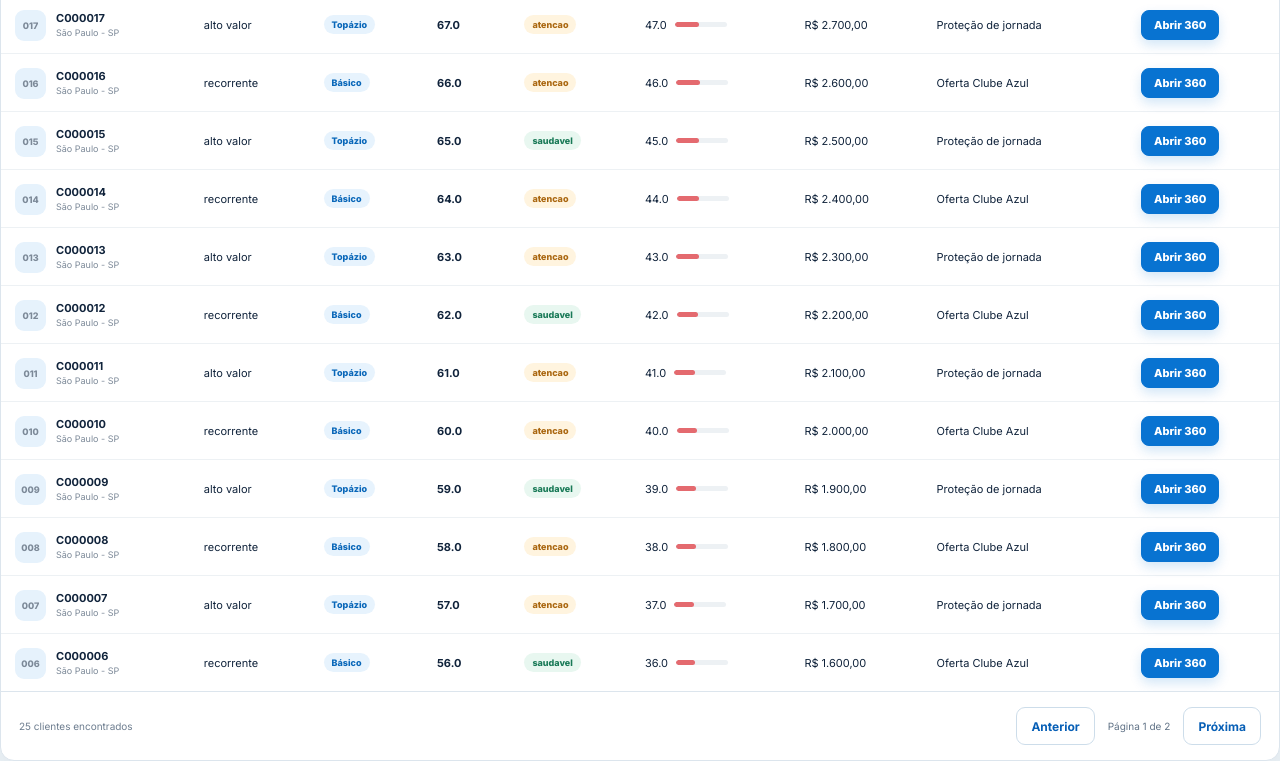
Test: explorador de clientes › pagina a carteira e mantém o total junto aos controles
(page scrolled)
Expected: the text "25 clientes encontrados" is shown, x1=19 y1=720 x2=133 y2=732
Expected: the text "Página 1 de 2" is shown, x1=1108 y1=720 x2=1170 y2=732
Step 1. Click the button "Próxima" → (1222, 726), box x1=1183 y1=707 x2=1261 y2=745
(page scrolled)
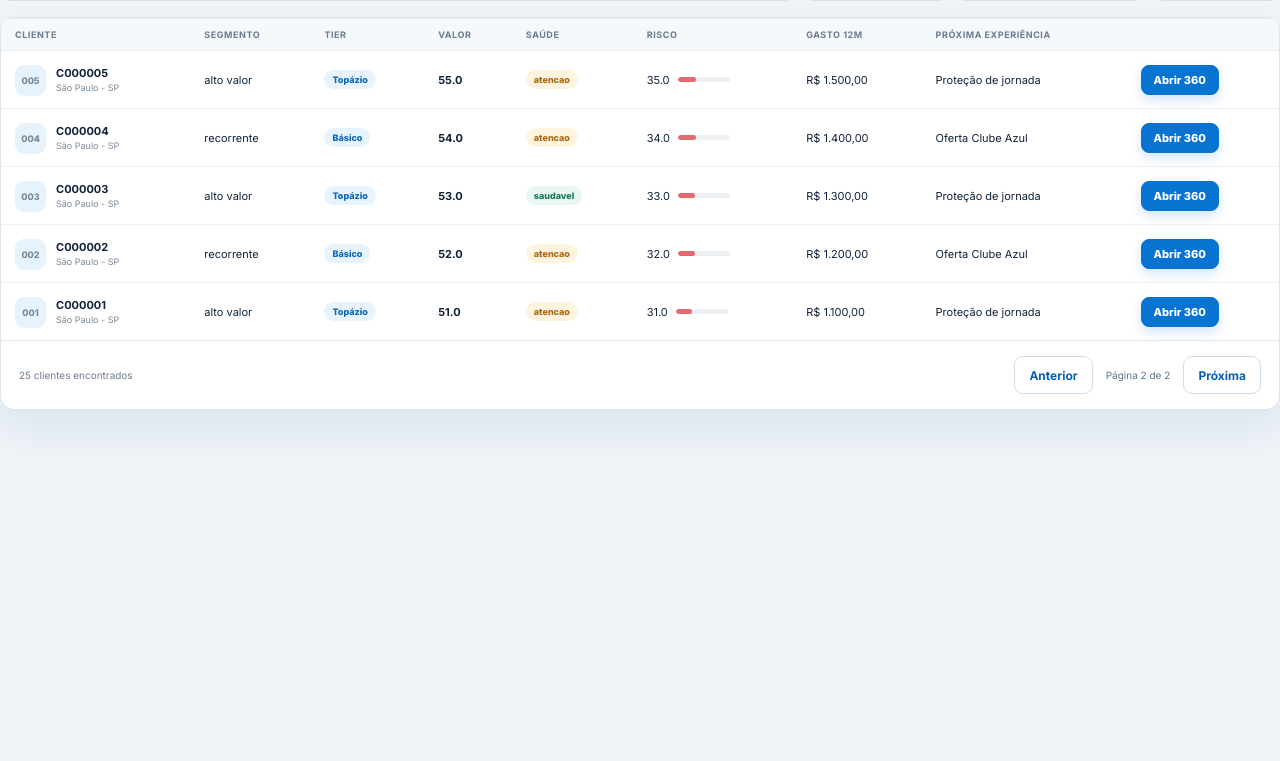
Expected: the text "Página 2 de 2" is shown, x1=1106 y1=369 x2=1170 y2=381
Expected: the number of links "Abrir 360" is 5, x1=1141 y1=64 x2=1219 y2=94; x1=1141 y1=122 x2=1219 y2=152; x1=1141 y1=180 x2=1219 y2=210; x1=1141 y1=238 x2=1219 y2=268; x1=1141 y1=296 x2=1219 y2=326
